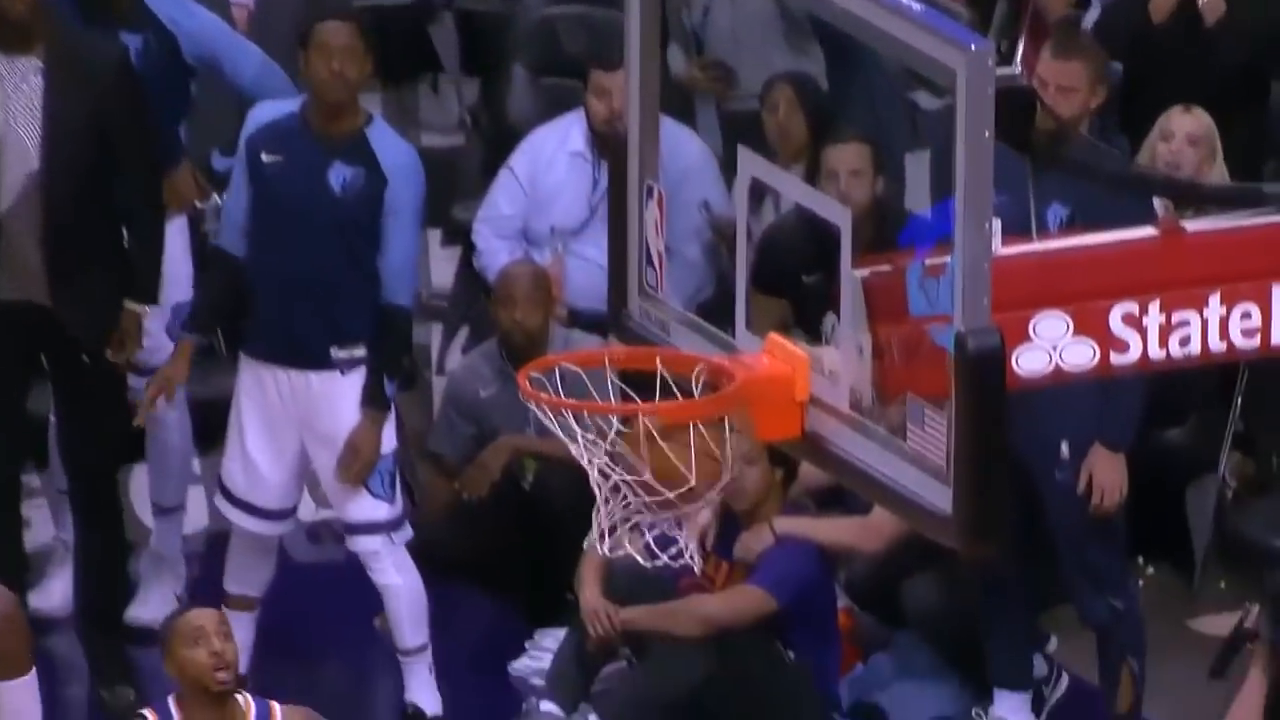ball: (616, 427, 740, 513)
